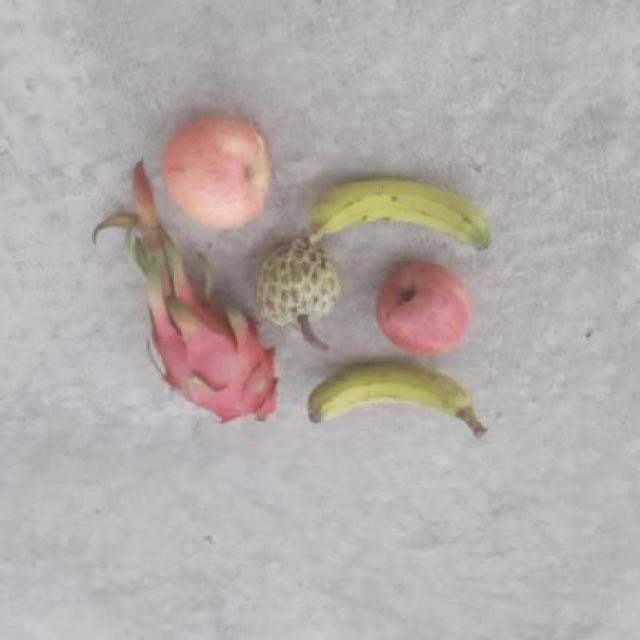apple: (160, 111, 277, 231), (374, 260, 472, 363)
banana: (303, 178, 489, 253), (293, 362, 476, 426)
dragon fruit: (133, 300, 282, 435)
sugar apple: (249, 236, 343, 336)
